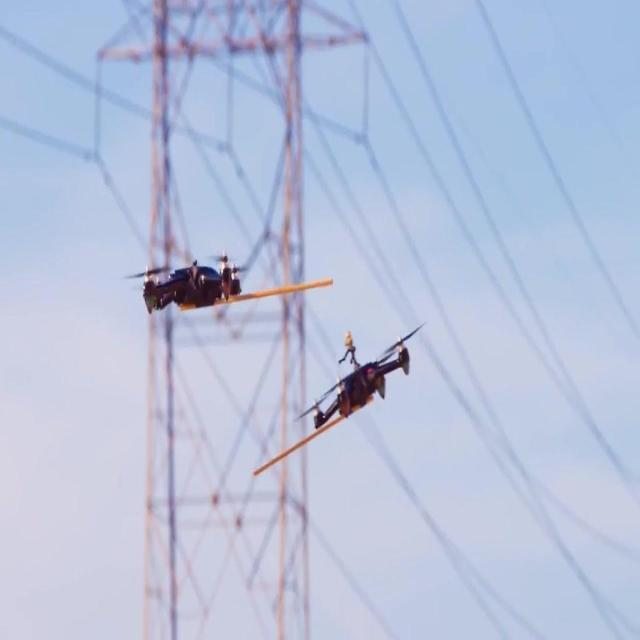drone: (294, 321, 426, 432), (130, 247, 242, 316)
